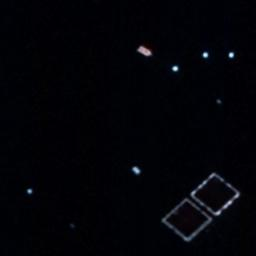square_solid: (155, 193, 216, 244), (188, 166, 244, 219)
